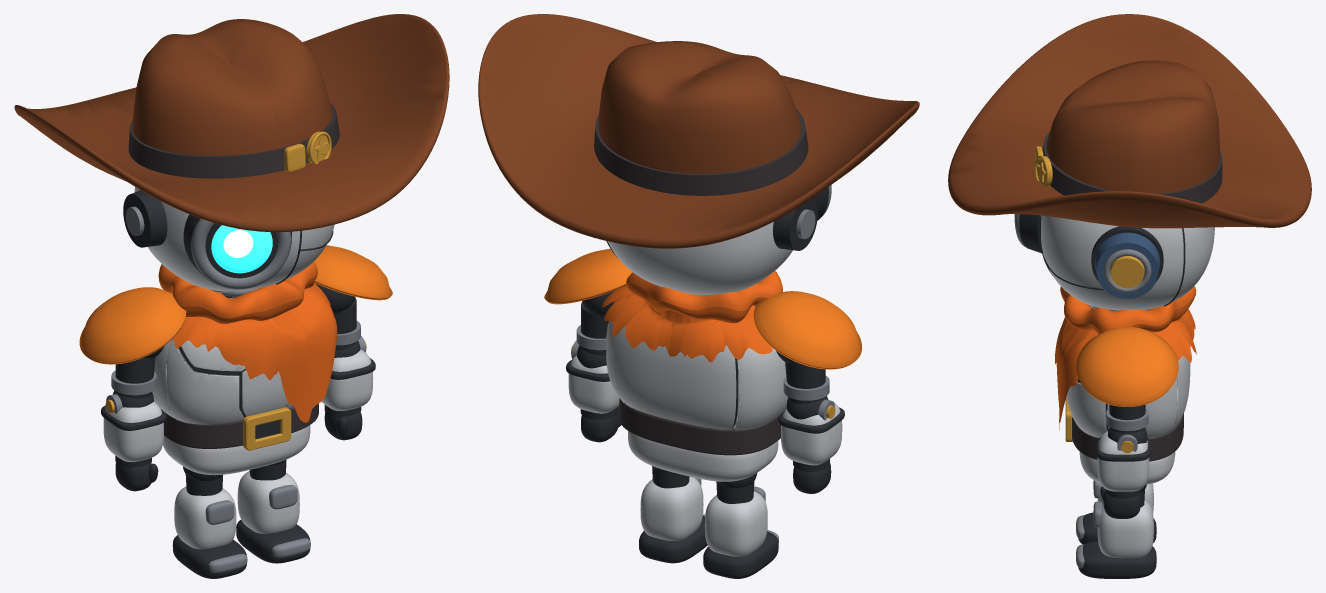
File: drifter.glb
The picture shows the model from 3 angles, left to right: view 1: azimuth 30°, elevation 25°; view 2: azimuth 150°, elevation 25°; view 3: azimuth 270°, elevation 25°; orthographic projection. The views are drawn at different scales.
Visible parts, largest first — view 1: hat, torso, arm_R, arm_L, leg_R, head, leg_L, visor, hand_R, hand_L; view 2: hat, torso, arm_R, head, arm_L, leg_R, leg_L, hand_L, hand_R; view 3: hat, head, torso, arm_L, leg_L, leg_R, visor, hand_L.
Boxes of the visible parts, x1,y1,x2,y2 form: hat: (14, 14, 449, 232); torso: (152, 262, 337, 475); arm_R: (79, 287, 186, 468); arm_L: (314, 245, 392, 417); leg_R: (172, 466, 247, 578); head: (123, 187, 334, 291); leg_L: (236, 459, 310, 563); visor: (183, 214, 291, 289); hand_R: (115, 463, 158, 491); hand_L: (324, 412, 362, 440); hat: (478, 14, 919, 248); torso: (602, 271, 788, 481); arm_R: (753, 291, 861, 471); head: (606, 198, 817, 295); arm_L: (544, 248, 632, 419); leg_R: (703, 473, 778, 578); leg_L: (639, 466, 707, 563); hand_L: (581, 406, 621, 442); hand_R: (793, 463, 831, 493); hat: (948, 14, 1311, 228); head: (1039, 215, 1214, 310); torso: (1055, 286, 1196, 484); arm_L: (1076, 326, 1178, 498); leg_L: (1076, 484, 1156, 578); leg_R: (1076, 480, 1156, 544); visor: (1014, 214, 1043, 253); hand_L: (1100, 486, 1141, 518).
Size of the model in its own units: 1.23 by 1.52 by 1.06.
